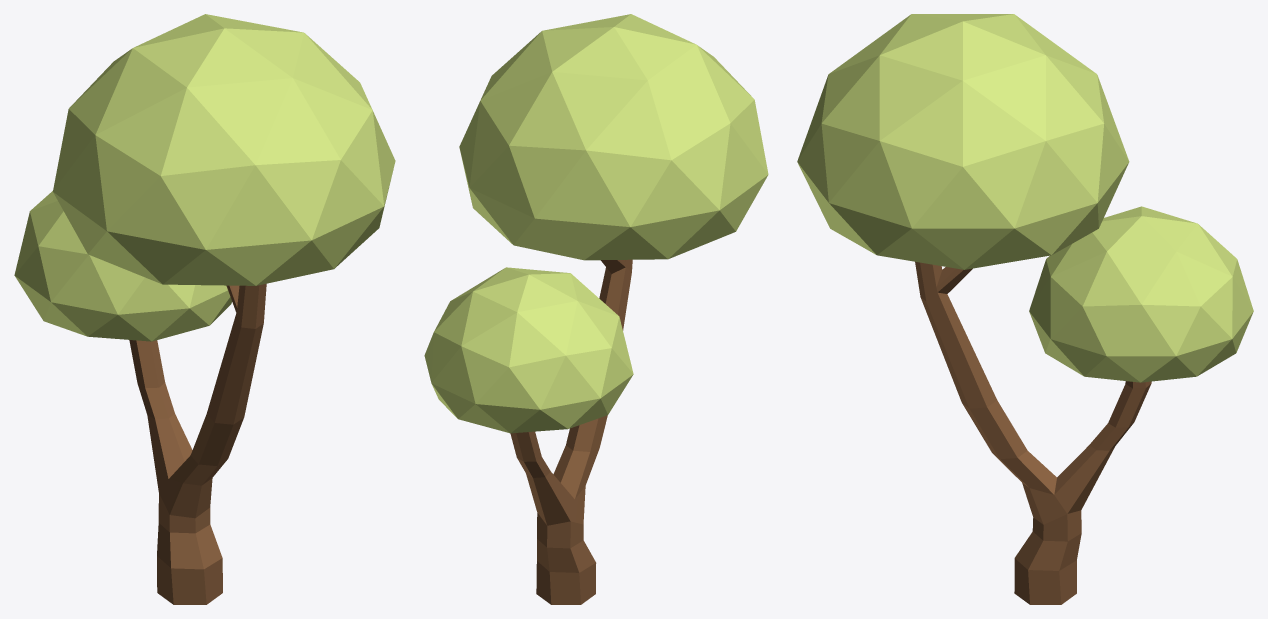
Rendered from tree1.glb.
The picture shows the model from 3 angles, left to right: view 1: azimuth 30°, elevation 25°; view 2: azimuth 150°, elevation 25°; view 3: azimuth 270°, elevation 25°; orthographic projection. The views are drawn at different scales.
Parts seen in each view (by area): view 1: Tree1; view 2: Tree1; view 3: Tree1.
Boxes of the visible parts, x1,y1,x2,y2 form: Tree1: (14, 14, 395, 604); Tree1: (424, 14, 768, 604); Tree1: (797, 14, 1253, 604).
Bounding box in the file's own units: 2.07 × 4.1 × 2.99.
